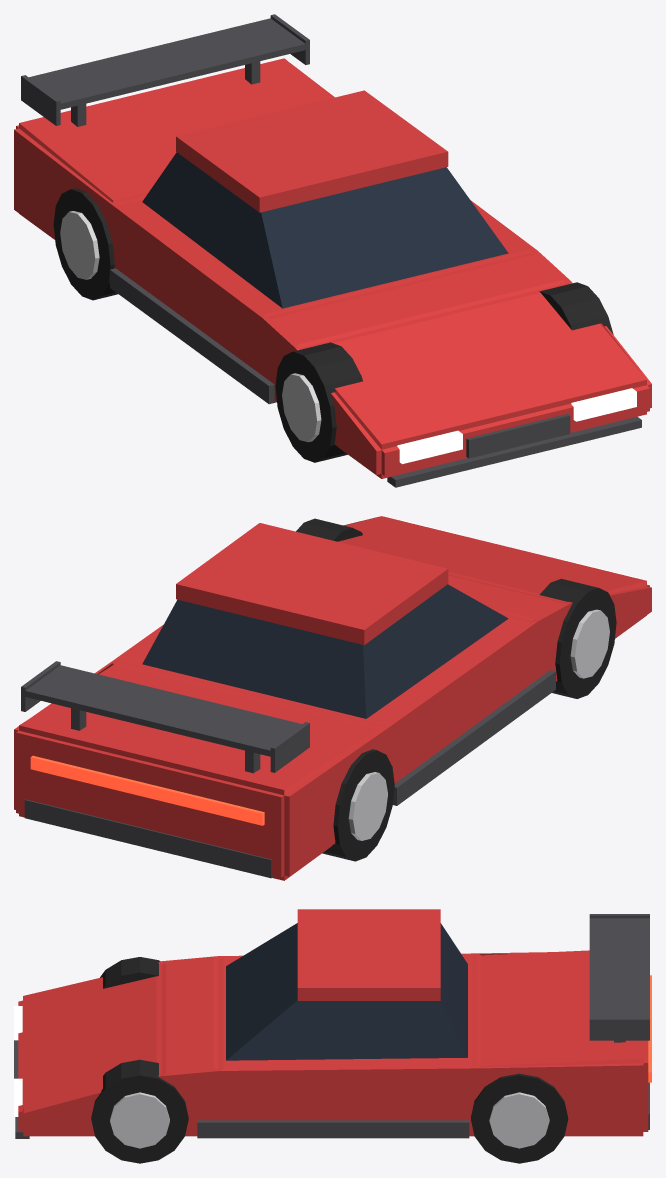
The model's file is car.glb.
3 views of the same model, one above another, from view 1: azimuth 30°, elevation 25°; view 2: azimuth 150°, elevation 25°; view 3: azimuth 270°, elevation 25° (orthographic). The views are drawn at different scales.
Parts seen in each view (by area): view 1: car; view 2: car; view 3: car.
Part boxes in pixels (<box>): car: <box>14,14,651,487</box>; car: <box>14,516,651,880</box>; car: <box>14,909,651,1163</box>.
Bounding box in the file's own units: 2.02 × 1.2 × 4.45.
